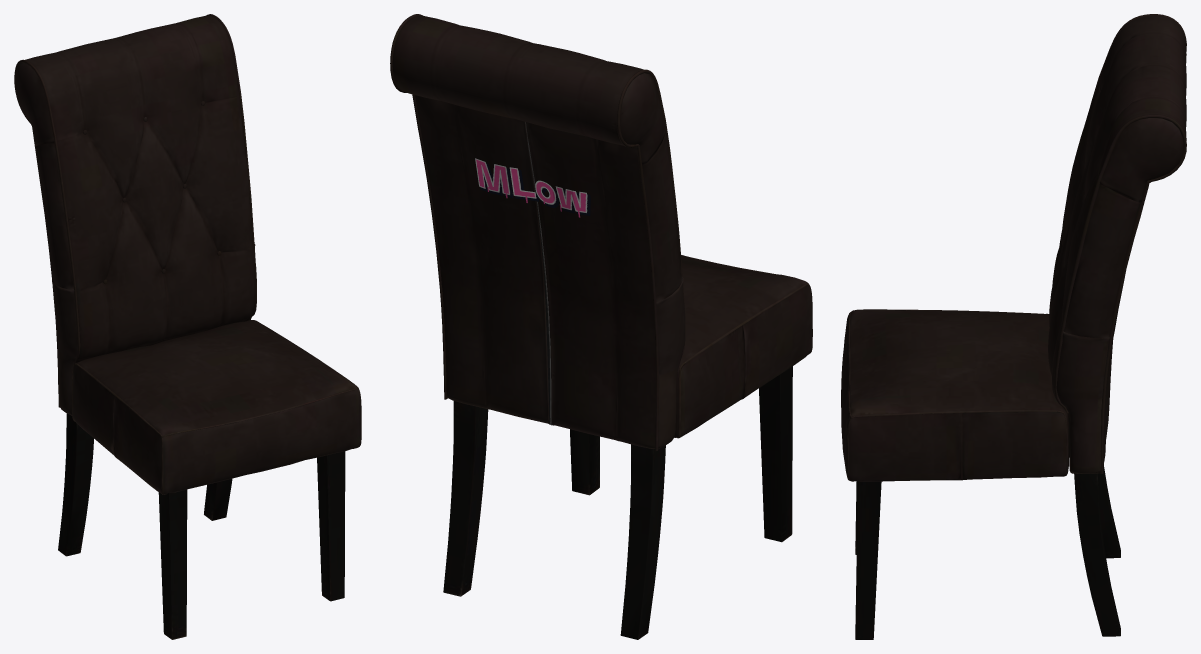
The model's file is nyb_llewyn_chair.glb.
The picture shows the model from 3 angles, left to right: view 1: azimuth 30°, elevation 25°; view 2: azimuth 150°, elevation 25°; view 3: azimuth 270°, elevation 25°; orthographic projection. The views are drawn at different scales.
Parts seen in each view (by area): view 1: dining_chair_02; view 2: dining_chair_02, stk_tag_mlow.png; view 3: dining_chair_02.
Part boxes in pixels (x1=…): dining_chair_02: x1=14, y1=14, x2=361, y2=639; dining_chair_02: x1=390, y1=14, x2=812, y2=639; stk_tag_mlow.png: x1=475, y1=158, x2=590, y2=217; dining_chair_02: x1=841, y1=14, x2=1186, y2=639.
Size of the model in its own units: 0.4336 by 0.9734 by 0.5764.
Materials: 2 (2 with a texture image).
